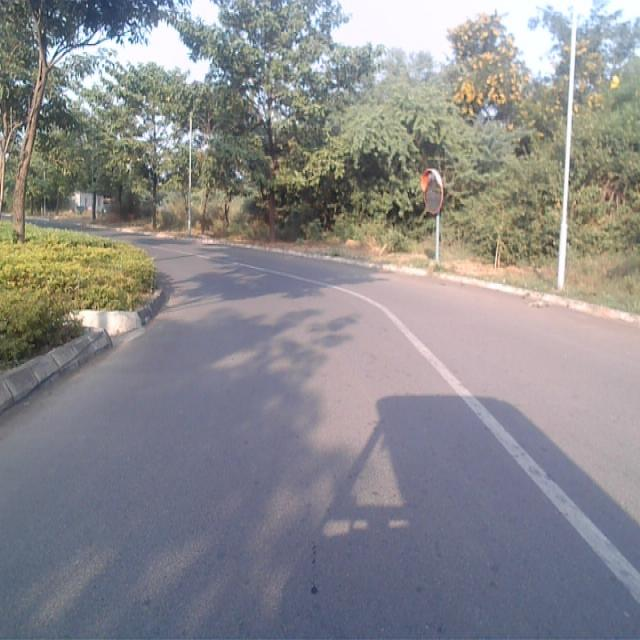lane: (0, 250, 640, 640)
